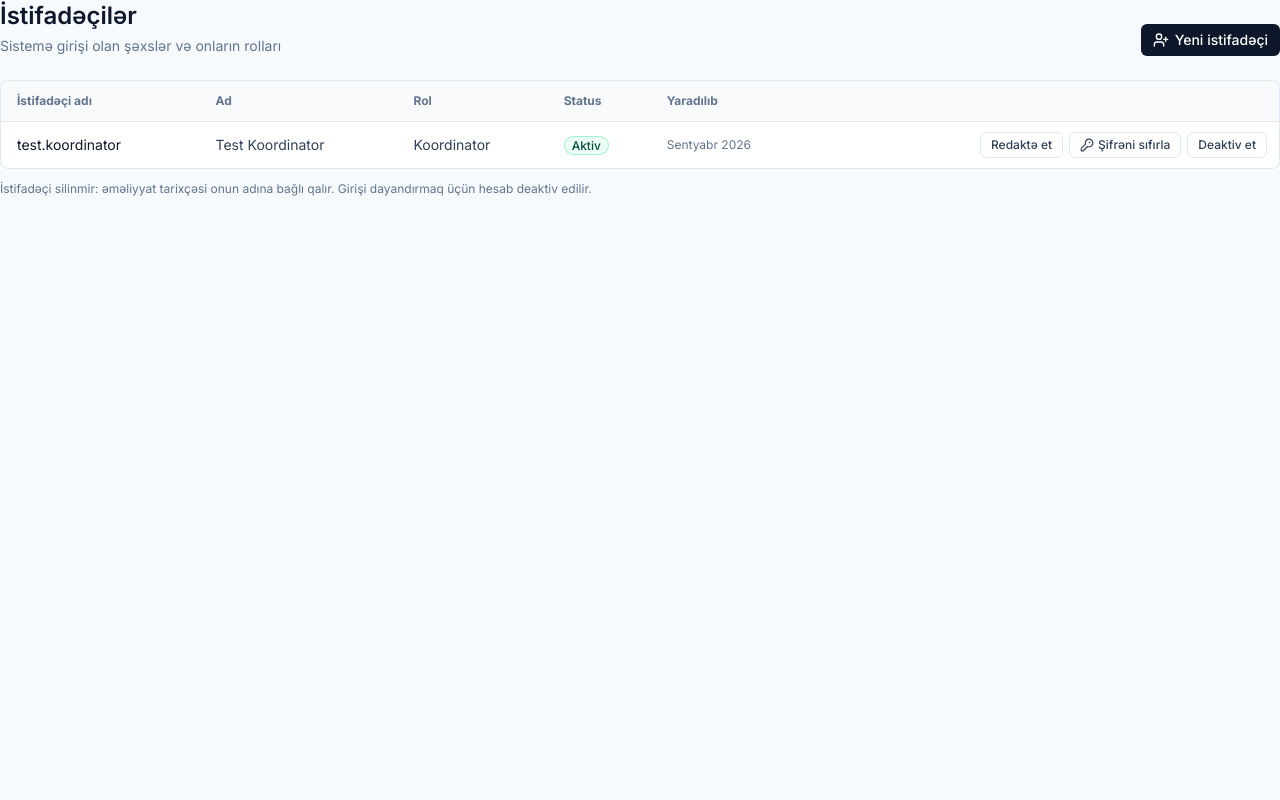
Test: creating somebody › explains what the server will accept as a password, and shows the refusal it gives
Expected: the heading "İstifadəçilər" is shown, [0,1,137,30]
Click the button "Yeni istifadəçi" at (1210, 40), box [1141,24,1279,56]
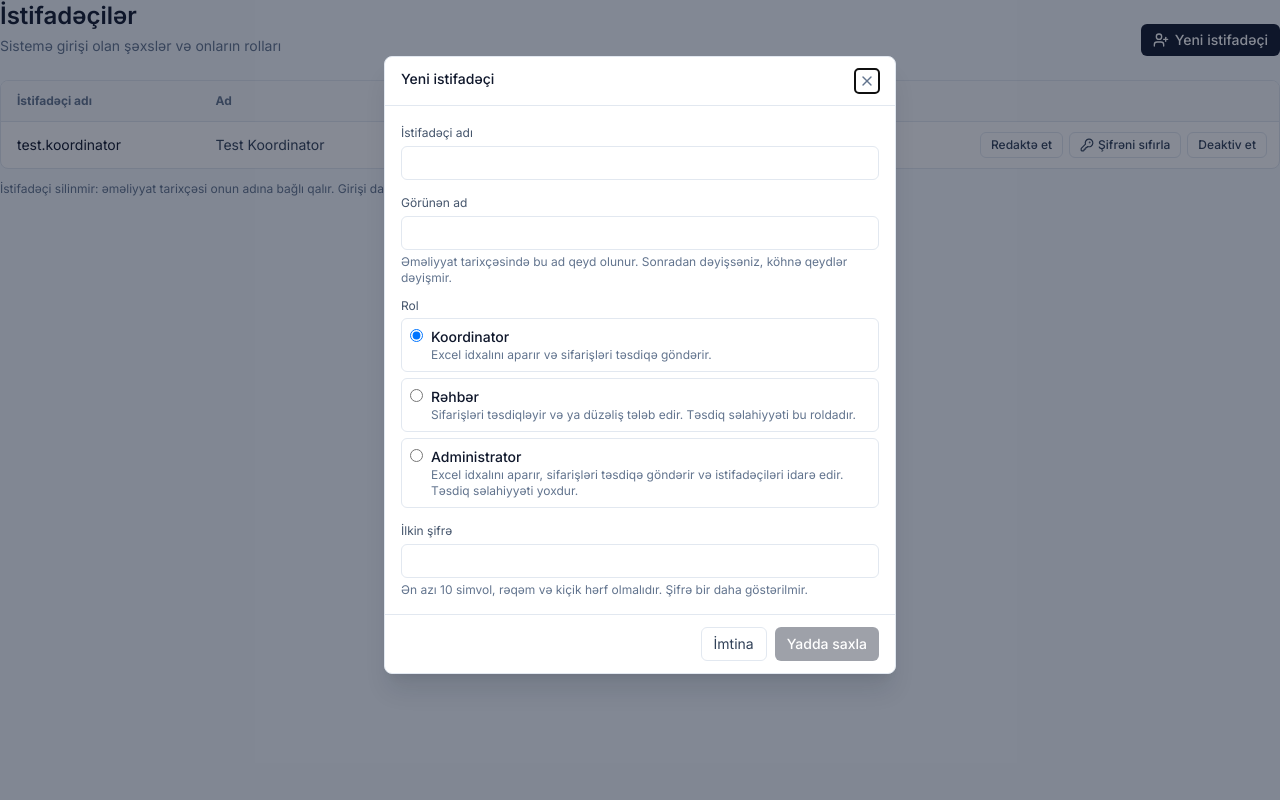
Expected: the text "Ən azı 10 simvol" is shown, [401,582,808,597]
Type "test.yeni" into the field labelled "İstifadəçi adı" at (640, 163), box [401,146,879,180]
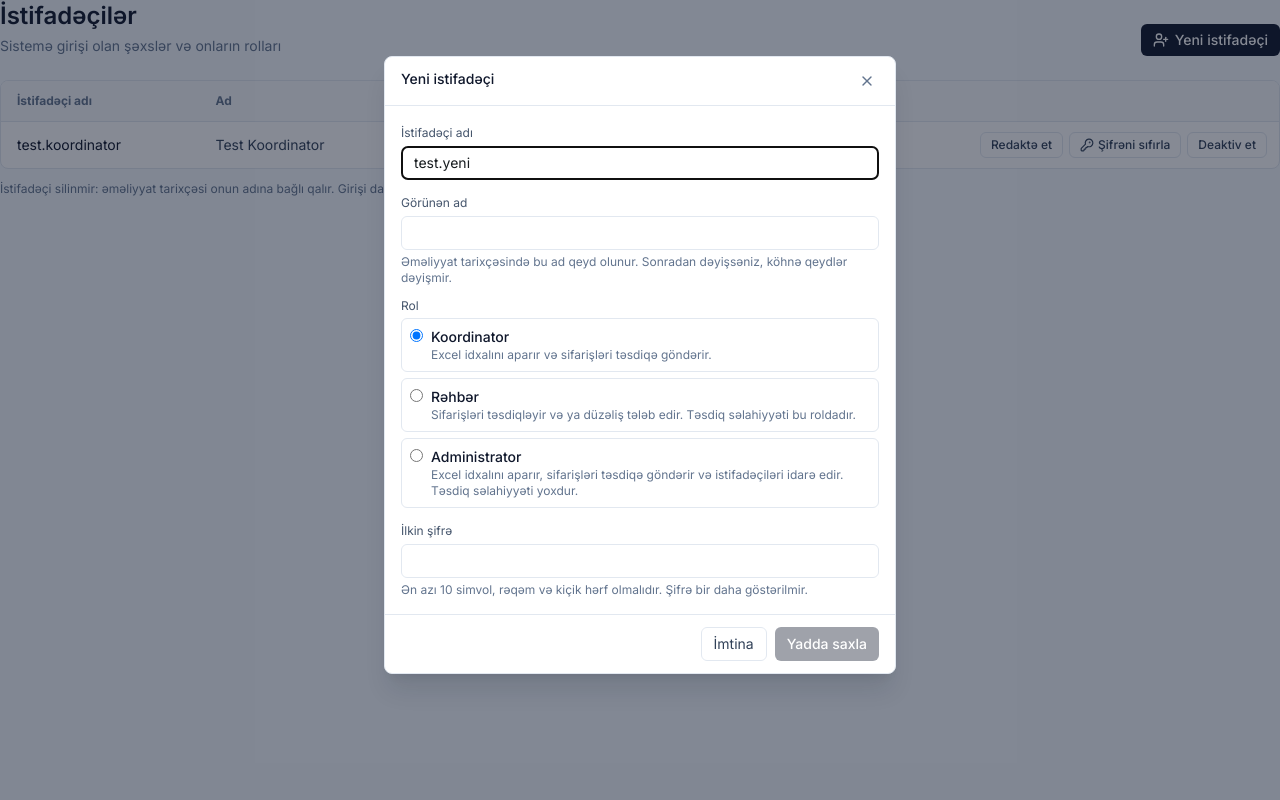
Type "Test Yeni" into the field labelled "Görünən ad" at (640, 233), box [401,216,879,250]
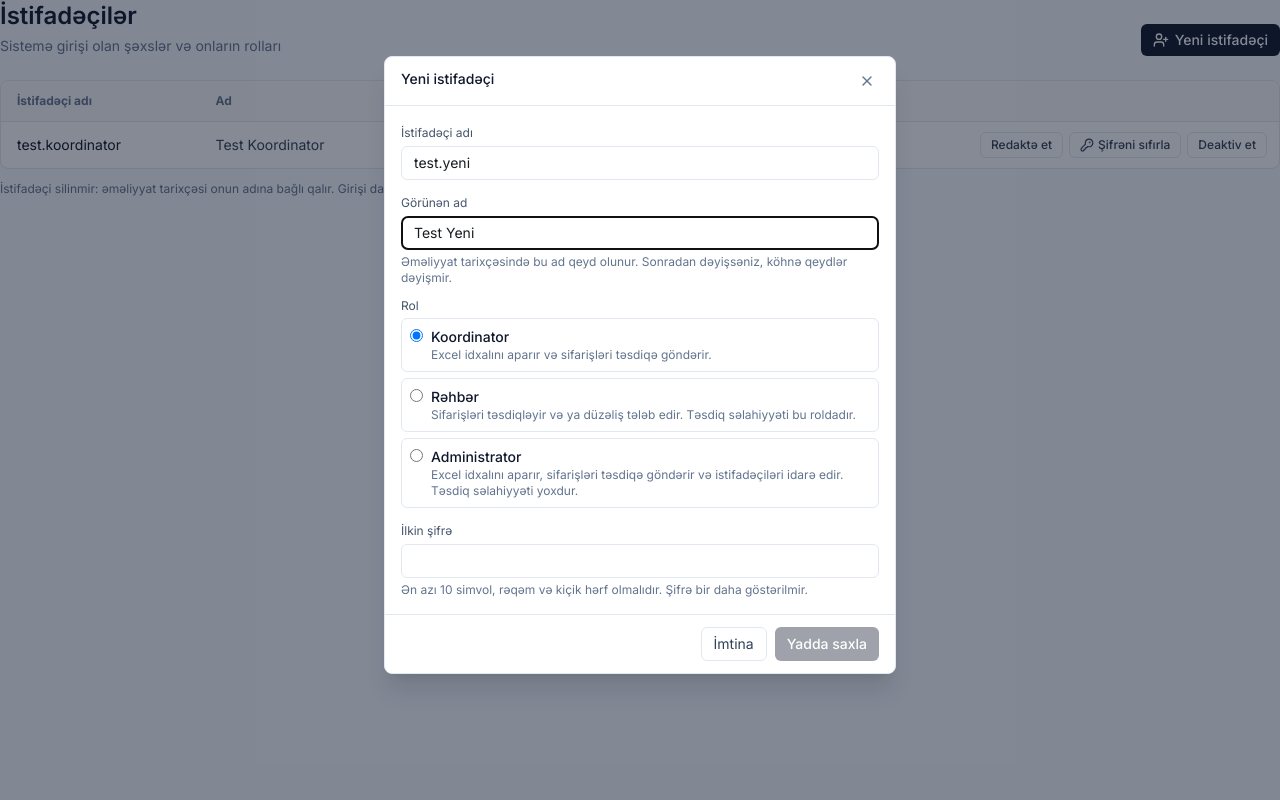
Type "qısa" into the password field labelled "İlkin şifrə" at (640, 561), box [401,544,879,578]
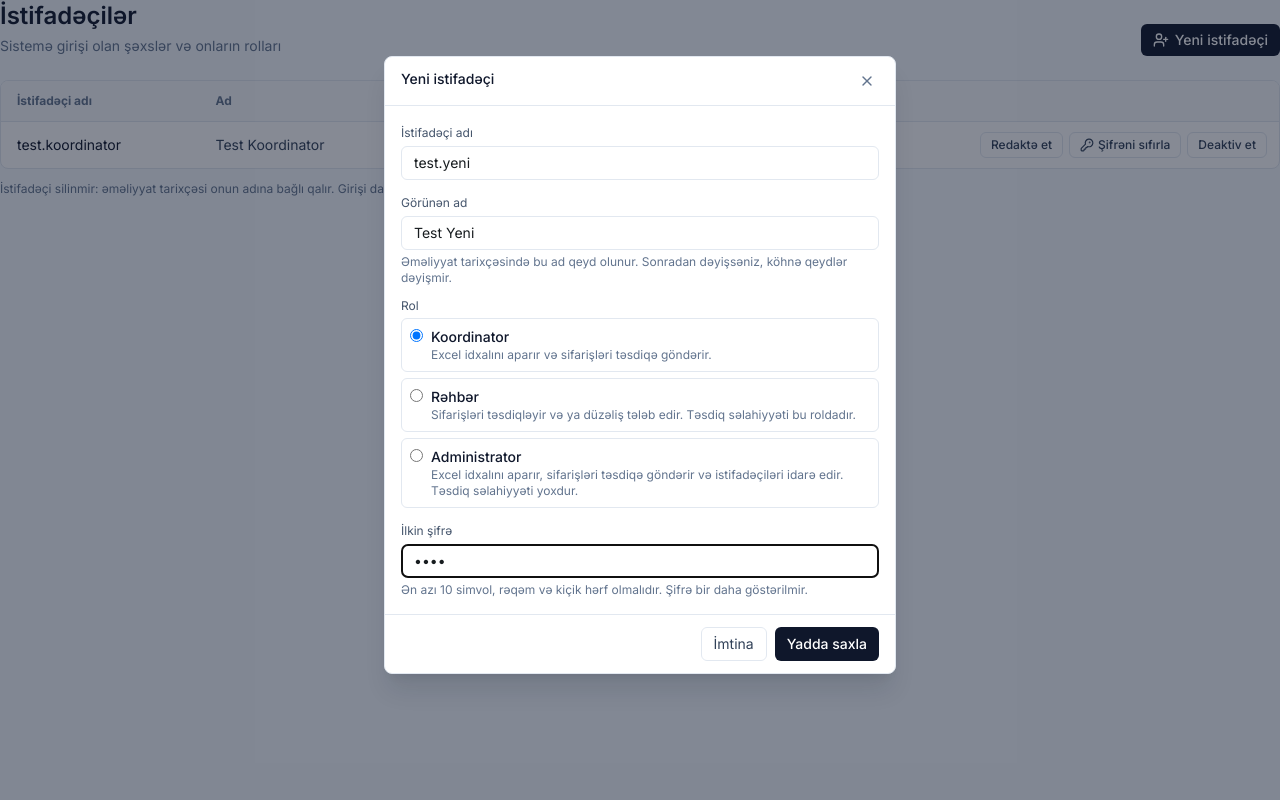
Click the button "Yadda saxla" at (827, 644), box [775,627,879,661]
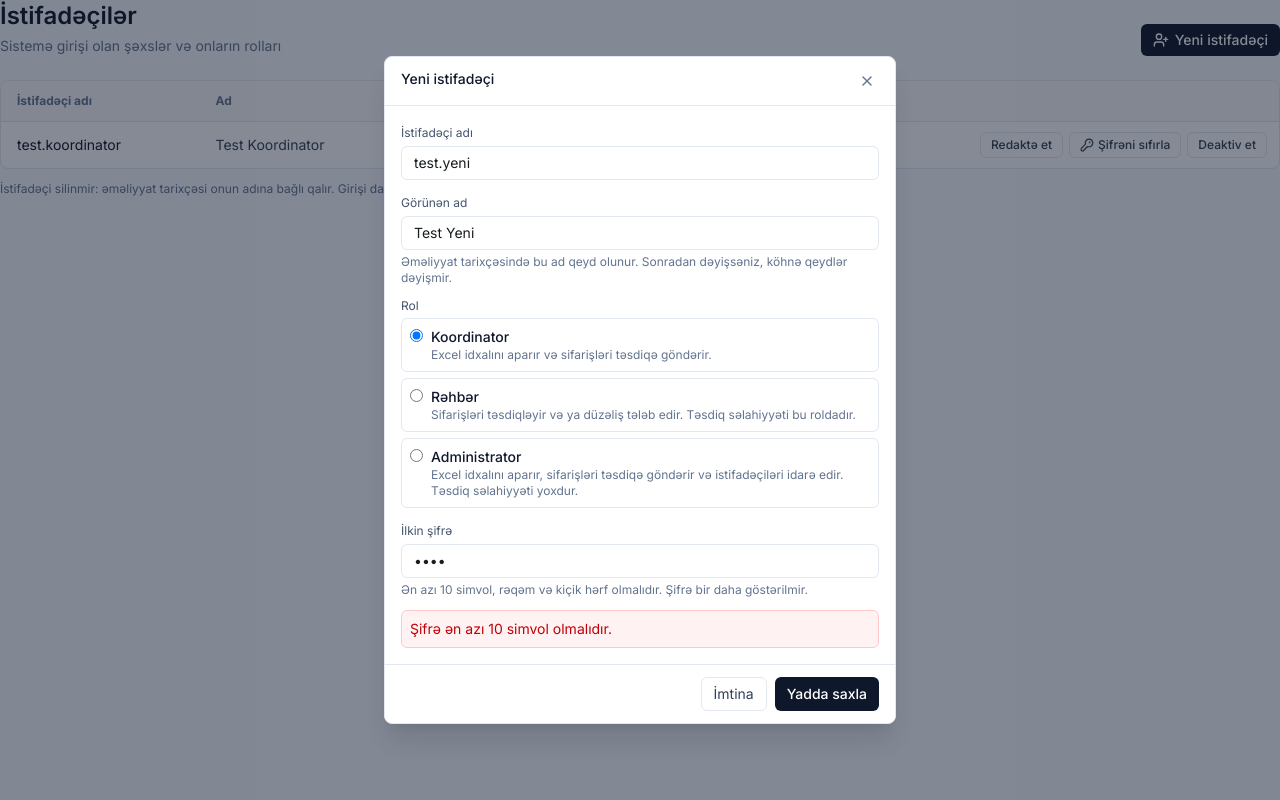
Expected: the message reads "Şifrə ən azı 10 simvol olmalıdır.", [410,620,612,637]
